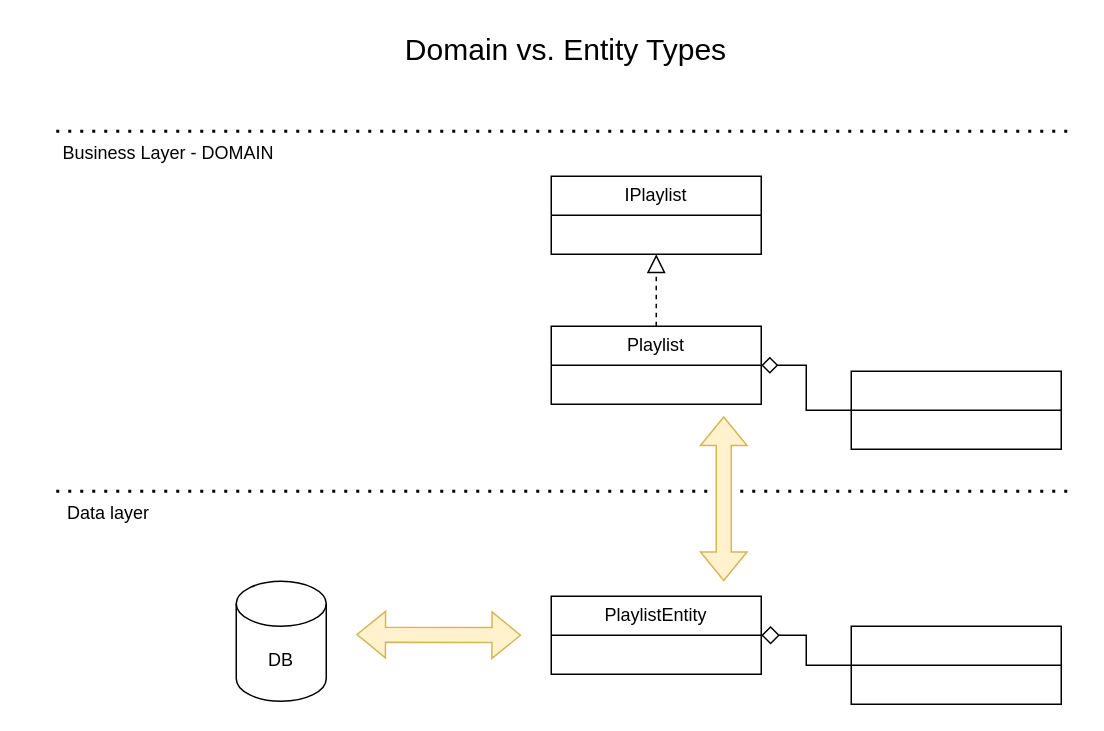
Image size: 1104x731. Some labels were removed from this diagram. Here are the shapes that lost their labels. From the top down, the centre of each, then its label:
the point at 955,409: IPlaylistItem
the point at 955,664: ItemEntity
